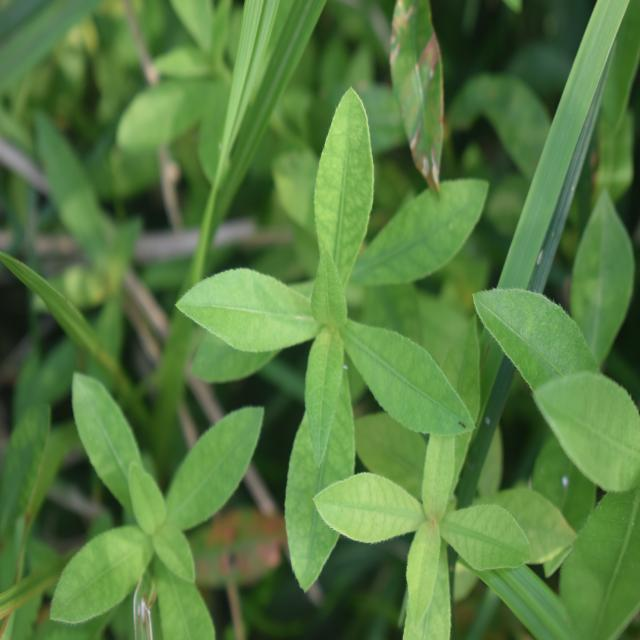Alligatorweed: (180, 97, 477, 500), (314, 392, 543, 636)
